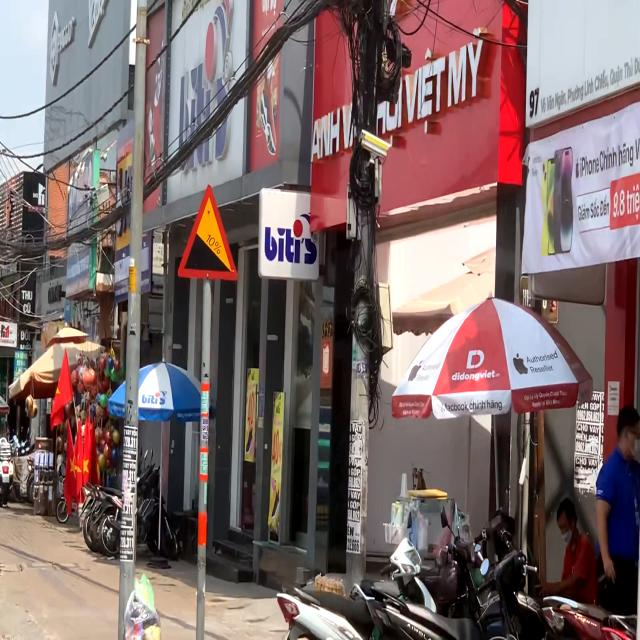W.219: (177, 182, 238, 282)
